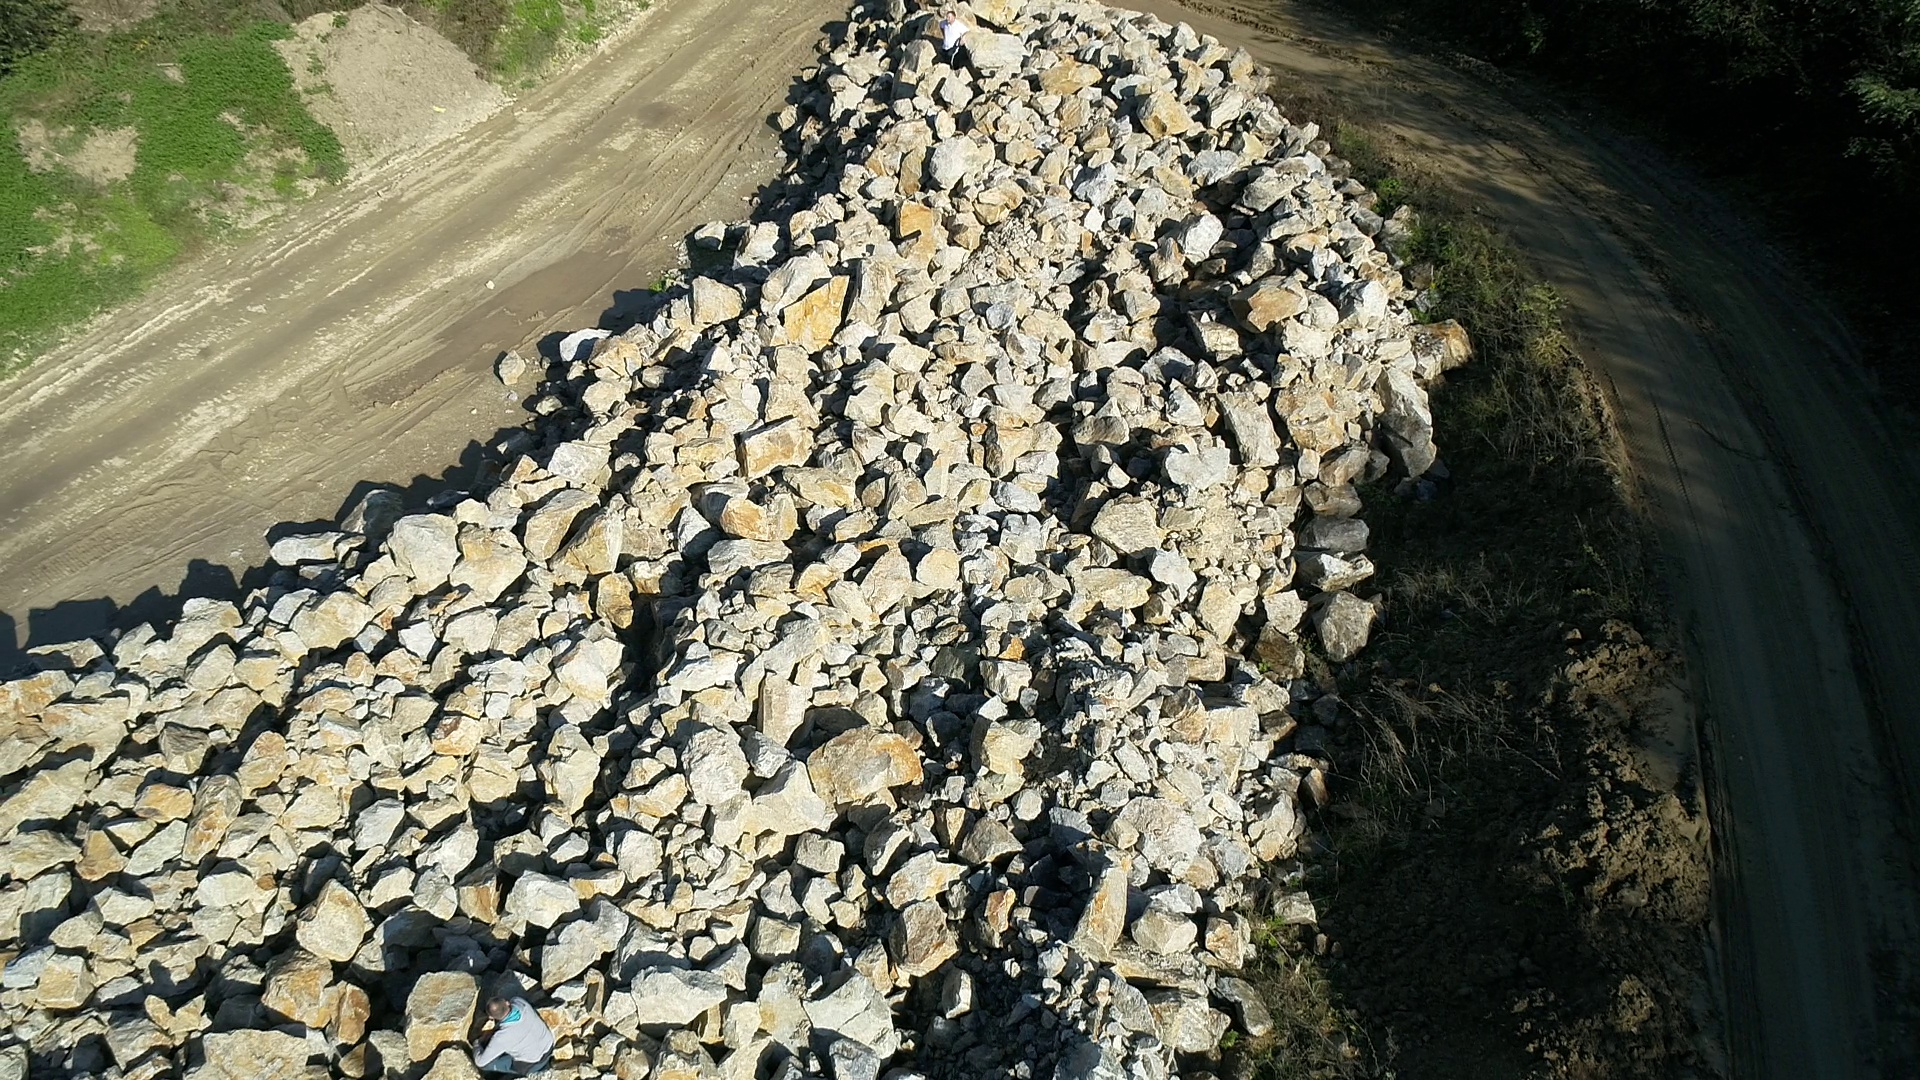person: (471, 996, 557, 1076), (939, 10, 970, 70)
